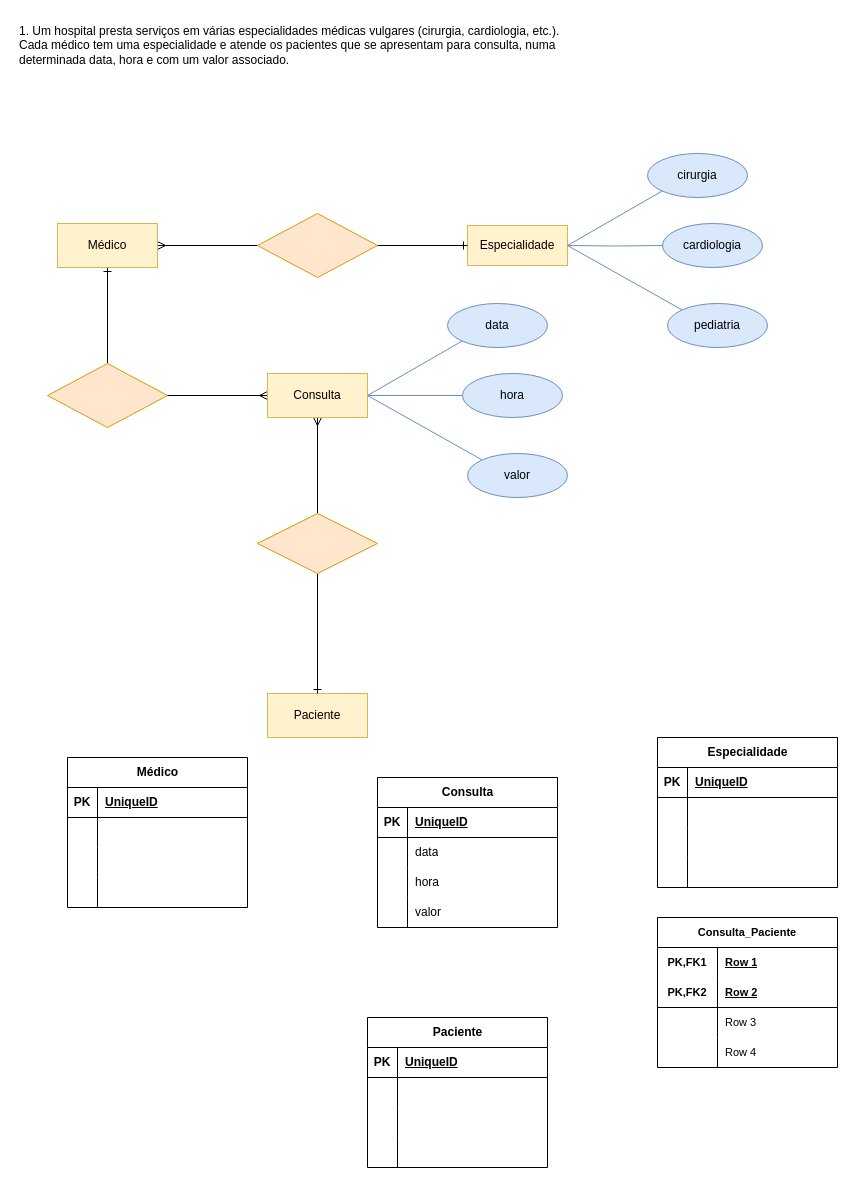
The diagram is 855 pixels wide and 1185 high, and some of its shapes have lost their labels. Here are the shapes that lost their labels. From the top down, the centre of each, then its label:
At point 317,245: "Tem".
At point 107,395: "Faz".
At point 317,543: "Possui".
